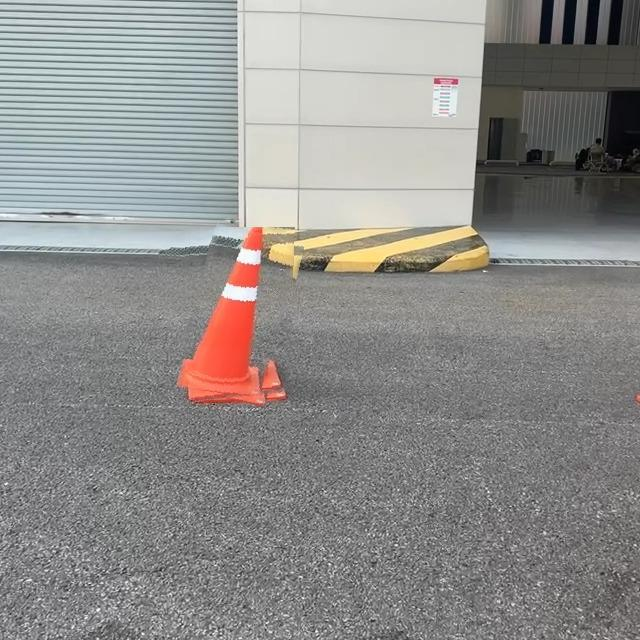fallen_object: (153, 216, 309, 433)
